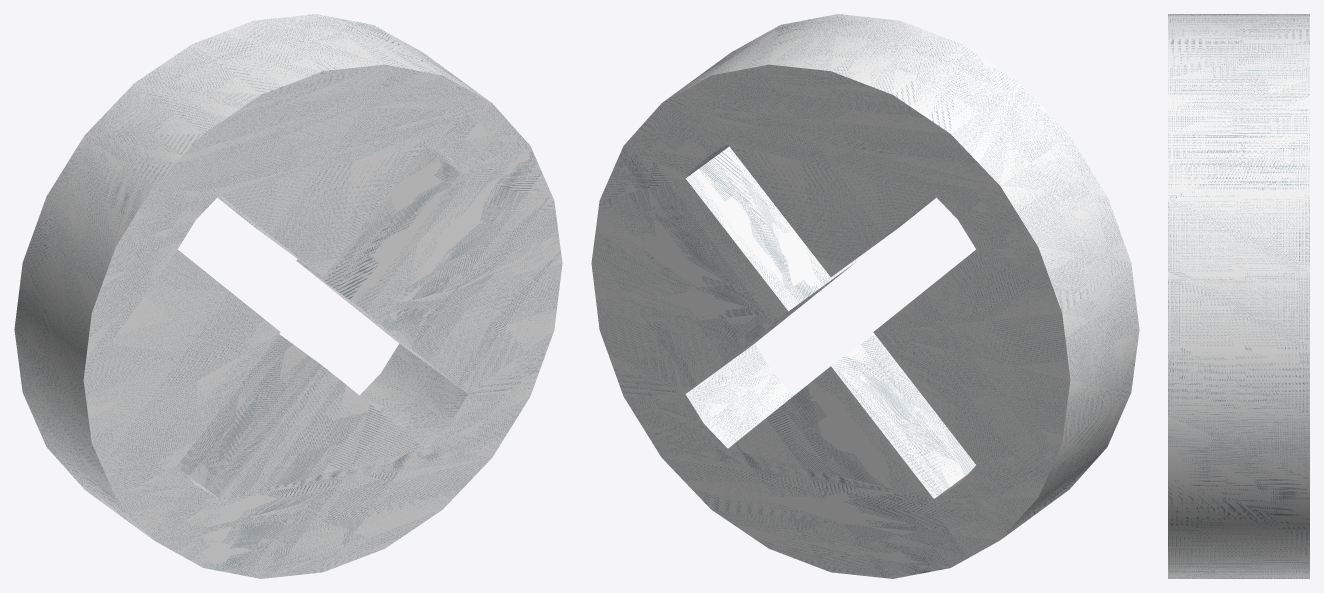
The model's file is ExitButton.dae.
The picture shows the model from 3 angles, left to right: view 1: azimuth 30°, elevation 25°; view 2: azimuth 150°, elevation 25°; view 3: azimuth 270°, elevation 25°; orthographic projection. The views are drawn at different scales.
Visible parts, largest first — view 1: SketchUp (×2); view 2: SketchUp (×2); view 3: SketchUp.
Part boxes in pixels (x1,y1,x2,y2): SketchUp (×2): [14, 14, 562, 578]; SketchUp (×2): [591, 14, 1139, 578]; SketchUp: [1168, 14, 1309, 578].
Size of the model in its own units: 1.57 by 0.3937 by 1.57.
